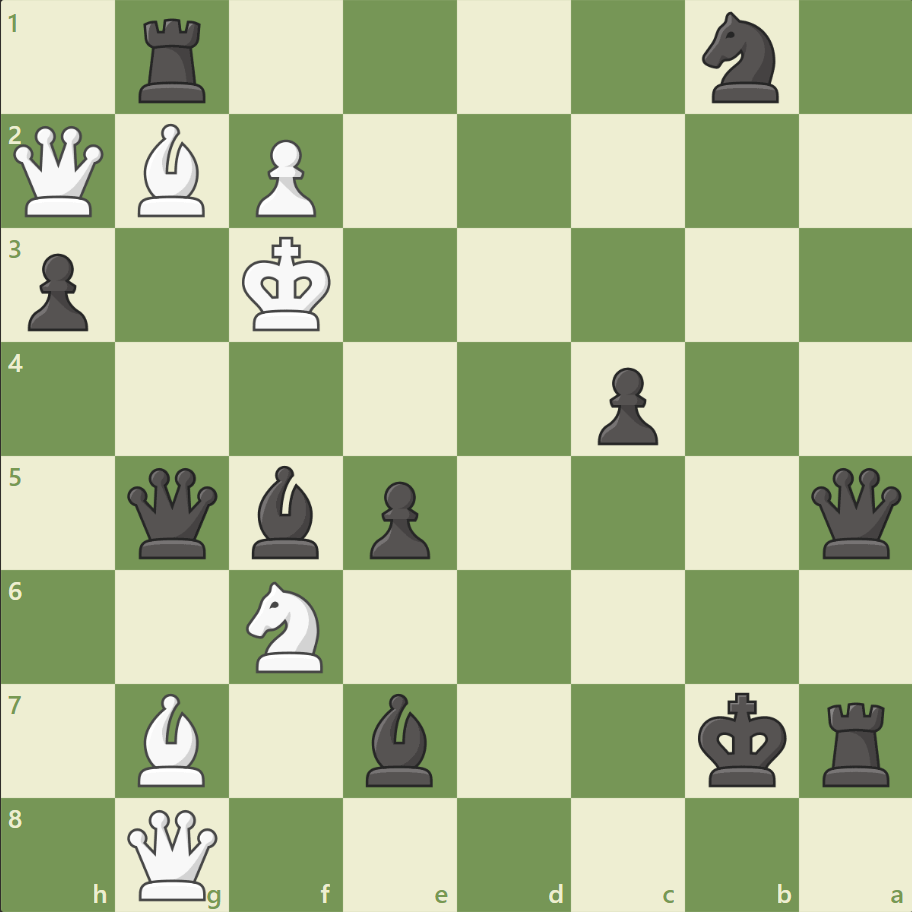B: (131, 687, 215, 790), (131, 120, 215, 222)
K: (238, 231, 338, 339)
N: (238, 575, 335, 677)
P: (247, 132, 322, 223)
Q: (10, 122, 109, 222), (124, 804, 223, 903)
b: (358, 687, 442, 790), (244, 460, 328, 563)
k: (692, 685, 792, 793)
n: (692, 7, 789, 110)
p: (20, 246, 95, 337), (361, 473, 435, 564), (588, 359, 662, 450)
q: (805, 463, 904, 562), (124, 463, 223, 562)
r: (814, 693, 897, 790), (133, 12, 215, 109)
